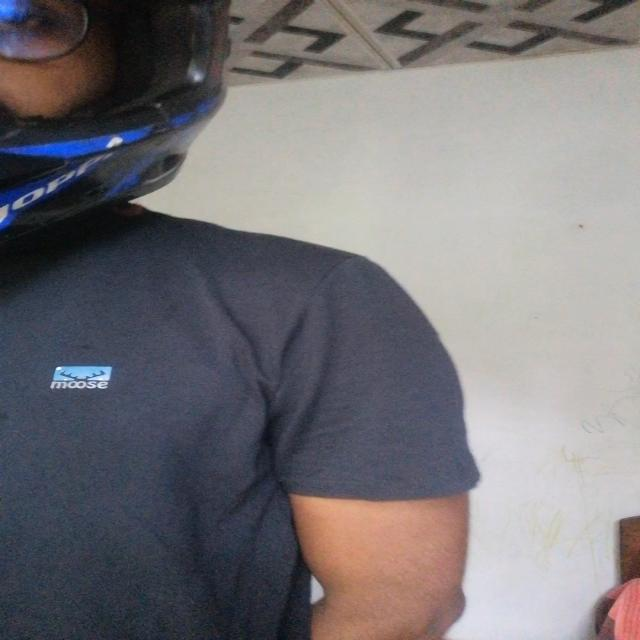Helmet_Wearer: (0, 0, 296, 274)
